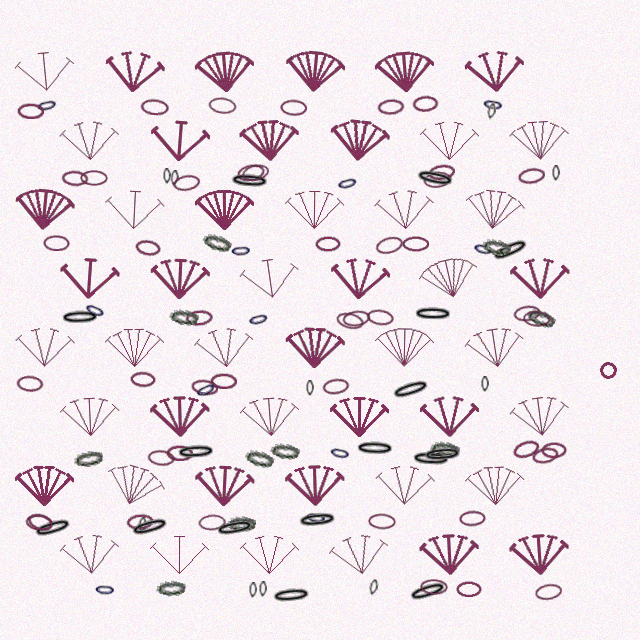chain: (489, 235, 532, 265), (390, 376, 432, 403), (407, 578, 449, 605), (32, 515, 74, 541), (129, 514, 171, 540), (414, 167, 456, 190), (214, 517, 256, 539), (297, 510, 338, 530), (422, 445, 463, 464), (271, 586, 312, 605), (525, 306, 557, 330), (229, 172, 270, 190), (201, 231, 233, 254), (176, 443, 216, 461), (411, 450, 451, 468), (511, 437, 541, 461), (374, 234, 405, 256), (60, 309, 100, 326), (355, 440, 395, 457), (335, 310, 365, 332), (73, 448, 104, 469), (244, 448, 275, 469), (413, 306, 453, 322), (26, 511, 55, 533), (236, 162, 266, 183), (481, 237, 512, 257), (241, 162, 270, 183), (531, 445, 560, 466), (82, 299, 108, 322), (193, 378, 219, 401), (172, 173, 201, 193), (517, 166, 546, 186), (534, 582, 563, 602), (134, 238, 162, 258), (208, 96, 237, 115), (427, 163, 456, 182), (423, 170, 452, 189), (342, 309, 371, 328), (190, 378, 219, 397), (169, 308, 199, 326), (270, 442, 300, 460), (430, 440, 460, 458), (156, 579, 186, 597), (366, 308, 394, 327), (513, 304, 541, 323), (322, 377, 350, 396), (25, 513, 53, 532), (140, 98, 169, 116), (377, 98, 405, 116), (185, 309, 213, 327), (147, 449, 175, 467), (126, 513, 154, 531), (335, 173, 360, 193), (471, 239, 496, 259), (246, 309, 271, 329), (227, 515, 256, 532), (17, 102, 44, 120), (35, 95, 59, 115), (328, 443, 352, 463), (61, 170, 89, 187), (522, 310, 550, 327), (16, 375, 44, 392), (198, 514, 226, 531), (368, 513, 396, 530), (280, 99, 307, 116), (412, 95, 439, 112), (459, 510, 486, 527), (481, 95, 505, 114), (304, 508, 328, 527), (80, 170, 108, 186), (420, 579, 448, 595), (130, 371, 156, 388), (43, 235, 70, 251), (402, 236, 429, 252), (210, 373, 237, 389), (166, 445, 193, 461), (315, 236, 341, 252), (541, 442, 567, 458), (456, 581, 482, 597), (230, 242, 252, 259), (94, 581, 116, 598), (486, 103, 497, 120), (368, 579, 379, 596), (170, 170, 179, 186), (138, 517, 147, 533), (163, 168, 171, 184), (552, 165, 560, 181), (306, 380, 314, 396), (481, 376, 489, 392), (249, 582, 257, 598), (259, 581, 267, 597)
fan: (100, 457, 169, 515), (416, 251, 483, 306), (327, 529, 392, 581), (463, 322, 527, 374), (238, 253, 302, 304), (508, 391, 572, 442), (103, 47, 166, 97), (463, 185, 526, 235), (193, 323, 256, 373), (328, 116, 391, 165), (13, 185, 76, 234), (14, 47, 76, 96), (284, 47, 346, 96), (464, 47, 526, 96), (59, 530, 121, 579), (194, 48, 256, 96), (374, 48, 436, 96), (149, 117, 211, 165), (329, 255, 391, 303), (239, 393, 301, 441), (374, 186, 435, 234), (239, 117, 300, 164), (509, 117, 570, 164), (59, 255, 120, 302), (419, 531, 480, 578), (509, 531, 570, 578), (59, 118, 120, 164), (104, 187, 165, 233), (194, 463, 255, 509), (150, 256, 210, 302), (285, 325, 345, 371), (60, 394, 120, 440), (465, 463, 525, 509), (510, 256, 570, 301), (15, 325, 75, 370), (150, 394, 210, 439), (285, 463, 345, 508), (375, 463, 435, 508), (375, 325, 434, 370), (420, 394, 479, 439), (420, 119, 479, 163), (195, 188, 254, 232), (285, 188, 344, 232), (105, 326, 164, 370), (330, 395, 389, 439), (15, 464, 74, 508), (150, 533, 209, 577), (240, 533, 299, 577)
noise: (597, 359, 619, 381)
